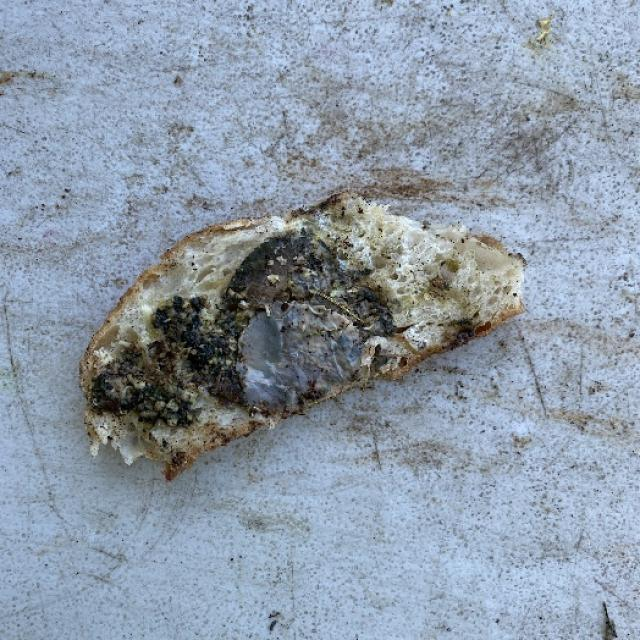organic: (64, 174, 550, 471)
